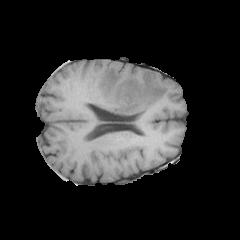glioma: (91, 66, 168, 115)
